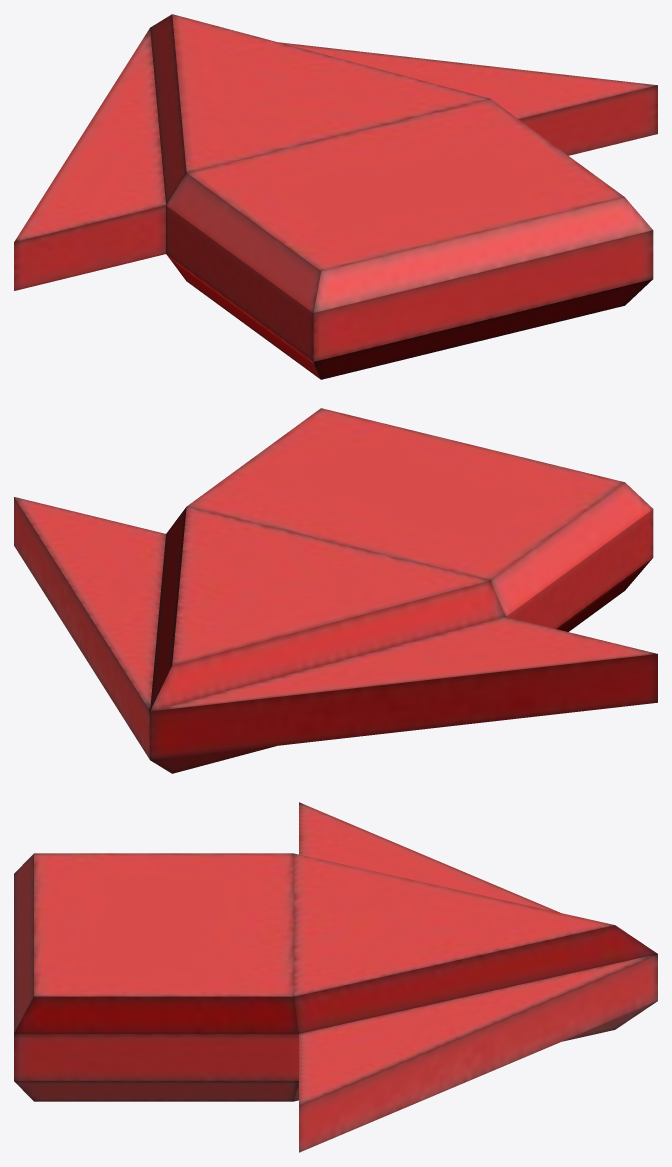
The model's file is colorArrow.obj.
The picture shows the model from 3 angles, top to bottom: view 1: azimuth 30°, elevation 25°; view 2: azimuth 150°, elevation 25°; view 3: azimuth 270°, elevation 25°; orthographic projection. The views are drawn at different scales.
Visible parts, largest first — view 1: Box028; view 2: Box028; view 3: Box028.
Part boxes in pixels (x1,y1,x2,y2): Box028: [14, 14, 657, 379]; Box028: [14, 408, 657, 773]; Box028: [14, 802, 657, 1152].
Bounding box in the file's own units: 13.8 × 2.22 × 12.38.
Materials: 1 (1 with a texture image).
